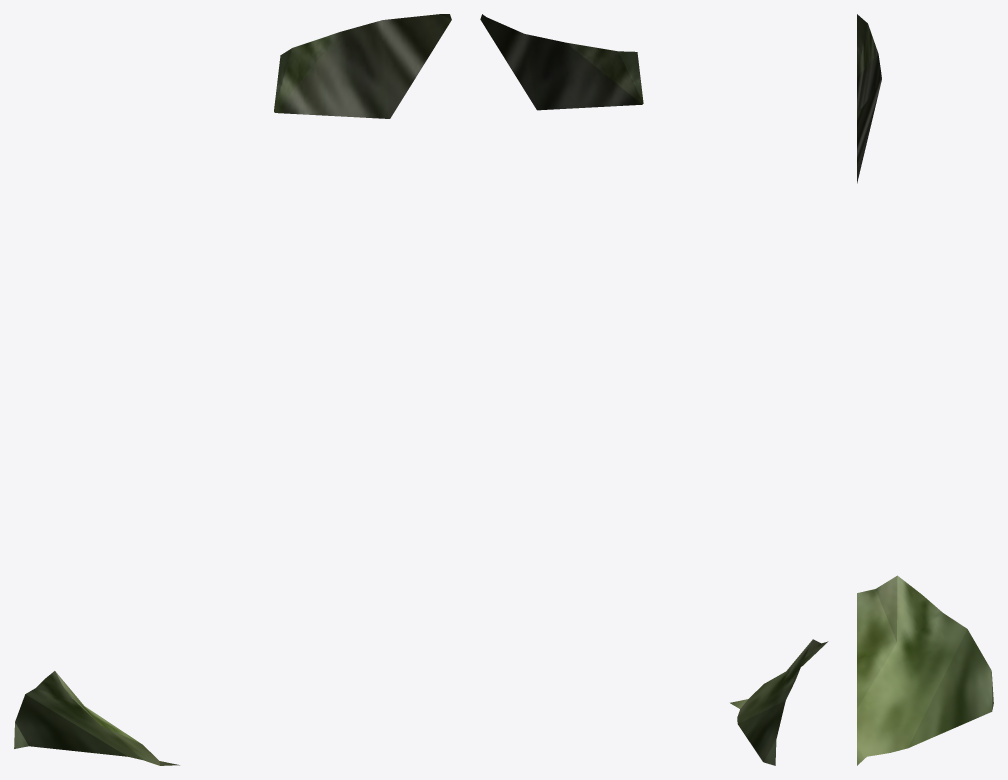
3 views of the same model, side by side, from view 1: azimuth 30°, elevation 25°; view 2: azimuth 150°, elevation 25°; view 3: azimuth 270°, elevation 25° (orthographic). The views are drawn at different scales.
Bounding box in the file's own units: 1.71 × 2.95 × 0.4518.
1 material, 1 textured.
